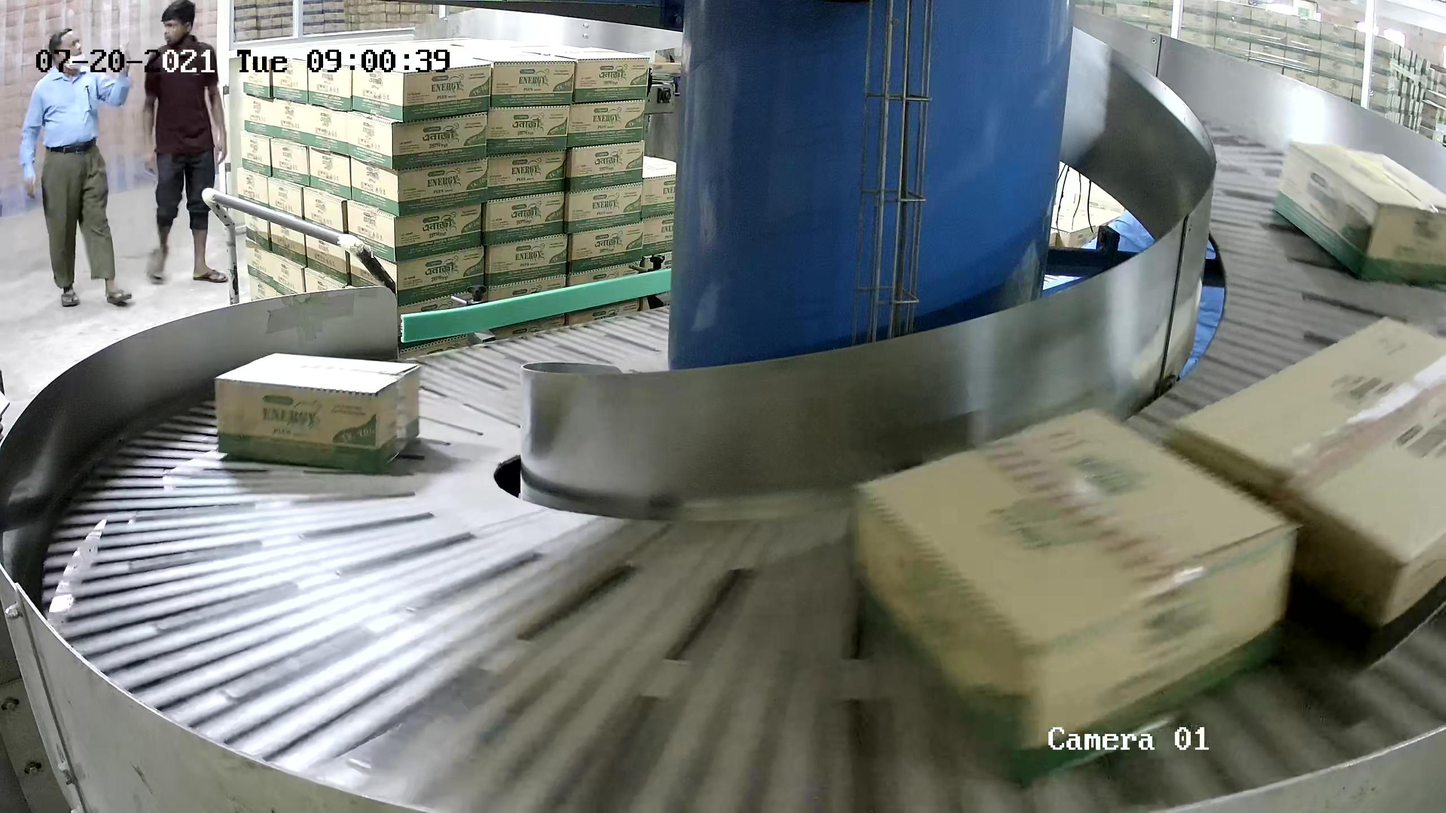Box: (846, 404, 1300, 792), (1142, 314, 1446, 670), (1270, 139, 1446, 285), (214, 352, 419, 476)
